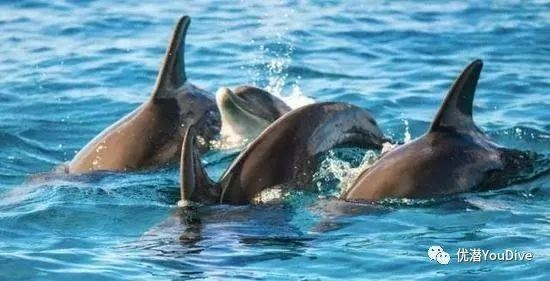fish: (245, 57, 540, 255), (117, 83, 391, 258), (24, 9, 231, 201), (212, 72, 296, 133)
